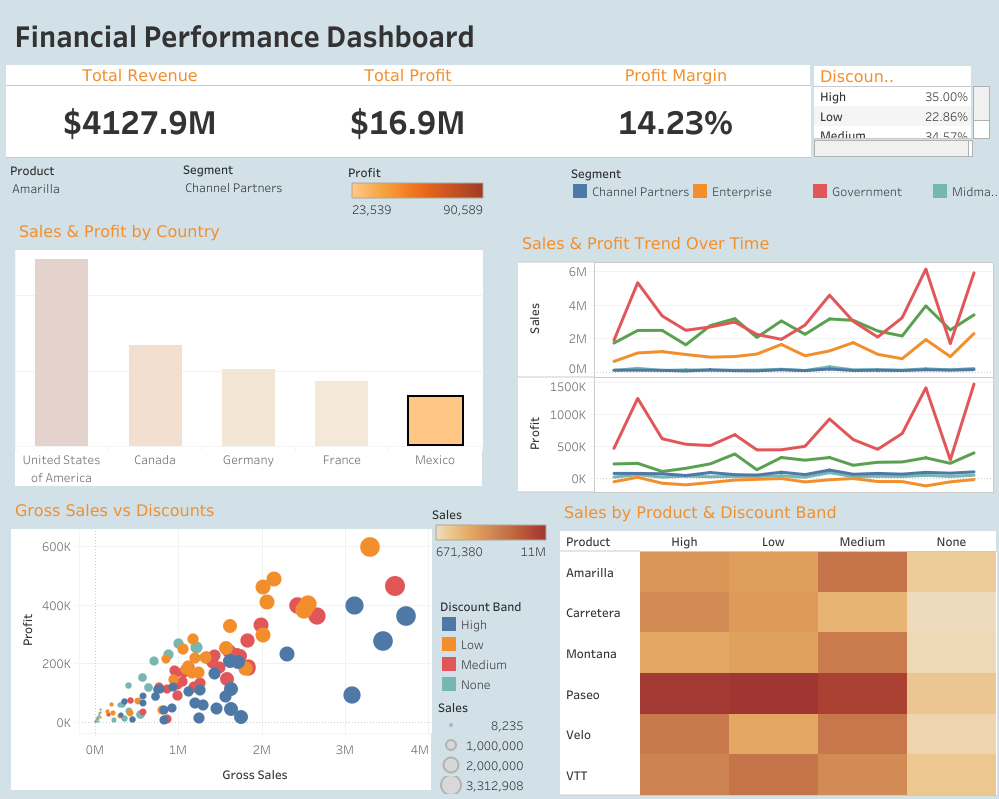

The dashboard page shown, as its layout file describes it:
{"tool":"tableau","page":{"name":"Financial Performance Dashboard","canvas":[1000,800],"ordinal":0},"visuals":[{"type":"title","box":[8,8,984,54]},{"type":"worksheet","title":"KPI ","mark":"Automatic","box":[6,65,805,93]},{"type":"worksheet","title":"Discount Distribution","mark":"Text","rows":["Discount Band "],"box":[814,66,176,91]},{"type":"filter","title":"Sales & Profit by Country","param":"[federated.19d1ld70mj1p4i1bhpg621m44vp5].[none:Segment:nk]","box":[183,159,160,63]},{"type":"legend","title":"Sales & Profit by Country","param":"[federated.19d1ld70mj1p4i1bhpg621m44vp5].[sum:Profit :qk]","box":[348,159,140,62]},{"type":"filter","title":"Sales & Profit by Country","param":"[federated.19d1ld70mj1p4i1bhpg621m44vp5].[none:Product :nk]","box":[10,160,160,58]},{"type":"legend","title":"Sales & Profit Trend Over Time","param":"[federated.19d1ld70mj1p4i1bhpg621m44vp5].[none:Segment:nk]","box":[570,162,429,58]},{"type":"worksheet","title":"Sales & Profit by Country","mark":"Automatic","rows":["Sales "],"cols":["Country"],"box":[15,216,468,270]},{"type":"worksheet","title":"Sales & Profit Trend Over Time","mark":"Line","rows":["Sales ","Profit "],"cols":["Date"],"box":[518,228,476,265]},{"type":"worksheet","title":"Gross Sales vs Discounts","mark":"Circle","rows":["Profit "],"cols":["Gross Sales "],"box":[11,495,420,295]},{"type":"worksheet","title":"Sales by Product & Discount Band","mark":"Automatic","rows":["Product "],"cols":["Discount Band "],"box":[560,497,437,299]},{"type":"legend","title":"Sales by Product & Discount Band","param":"[federated.19d1ld70mj1p4i1bhpg621m44vp5].[sum:Sales :qk]","box":[432,501,119,76]},{"type":"legend","title":"Gross Sales vs Discounts","param":"[federated.19d1ld70mj1p4i1bhpg621m44vp5].[none:Discount Band :nk]","box":[439,595,82,98]},{"type":"legend","title":"Gross Sales vs Discounts","param":"[federated.19d1ld70mj1p4i1bhpg621m44vp5].[sum:Sales :qk]","box":[437,696,95,98]}]}

Visuals, with their boxes in screenshot pixels (x1, y1, x2, y2), scaled from the page's 1000x800 canvas onto the 999x799 screenshot:
title: detection(8, 8, 991, 62)
"KPI " worksheet: detection(6, 65, 810, 158)
"Discount Distribution" worksheet (Text marks): detection(813, 66, 989, 157)
"Sales & Profit by Country" filter: detection(183, 159, 343, 222)
"Sales & Profit by Country" legend: detection(348, 159, 488, 221)
"Sales & Profit by Country" filter: detection(10, 160, 170, 218)
"Sales & Profit Trend Over Time" legend: detection(569, 162, 998, 220)
"Sales & Profit by Country" worksheet: detection(15, 216, 483, 485)
"Sales & Profit Trend Over Time" worksheet (Line marks): detection(517, 228, 993, 492)
"Gross Sales vs Discounts" worksheet (Circle marks): detection(11, 494, 431, 789)
"Sales by Product & Discount Band" worksheet: detection(559, 496, 996, 795)
"Sales by Product & Discount Band" legend: detection(432, 500, 550, 576)
"Gross Sales vs Discounts" legend: detection(439, 594, 520, 692)
"Gross Sales vs Discounts" legend: detection(437, 695, 531, 793)
